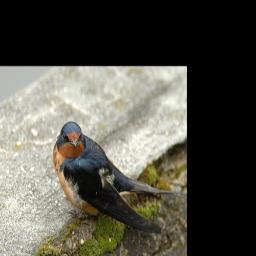Swallow: (52, 120, 186, 233)
